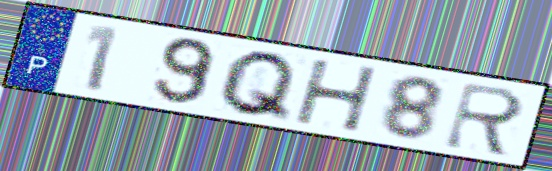1: (83, 24, 122, 94)
8: (379, 75, 450, 142)
9: (151, 36, 219, 107)
H: (293, 57, 382, 134)
Q: (214, 49, 301, 125)
R: (440, 79, 529, 160)
